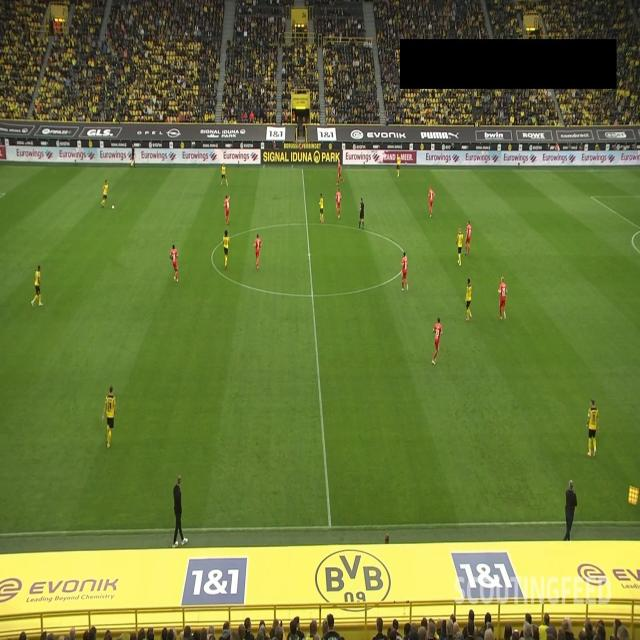ball: (111, 204, 115, 210)
